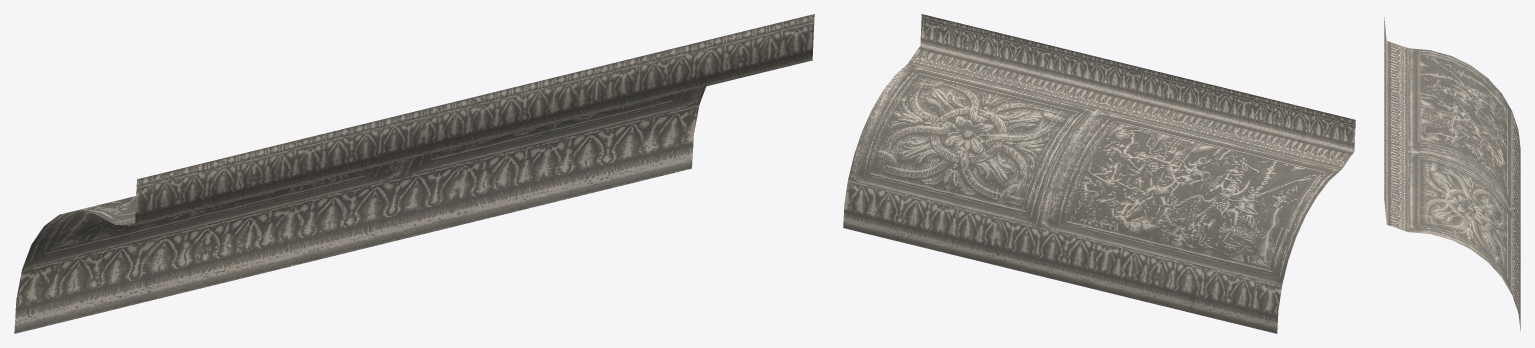
The model's file is CeilingCurved_Short.fbx.
3 views of the same model, side by side, from view 1: azimuth 30°, elevation 25°; view 2: azimuth 150°, elevation 25°; view 3: azimuth 270°, elevation 25° (orthographic). The views are drawn at different scales.
Visible parts, largest first — view 1: CeilingRoundShort; view 2: CeilingRoundShort; view 3: CeilingRoundShort.
Boxes of the visible parts, box(x1,y1,x2,y2) form: CeilingRoundShort: box(14, 14, 814, 333); CeilingRoundShort: box(843, 14, 1355, 333); CeilingRoundShort: box(1384, 17, 1520, 331).
Size of the model in its own units: 388 by 134 by 122.
